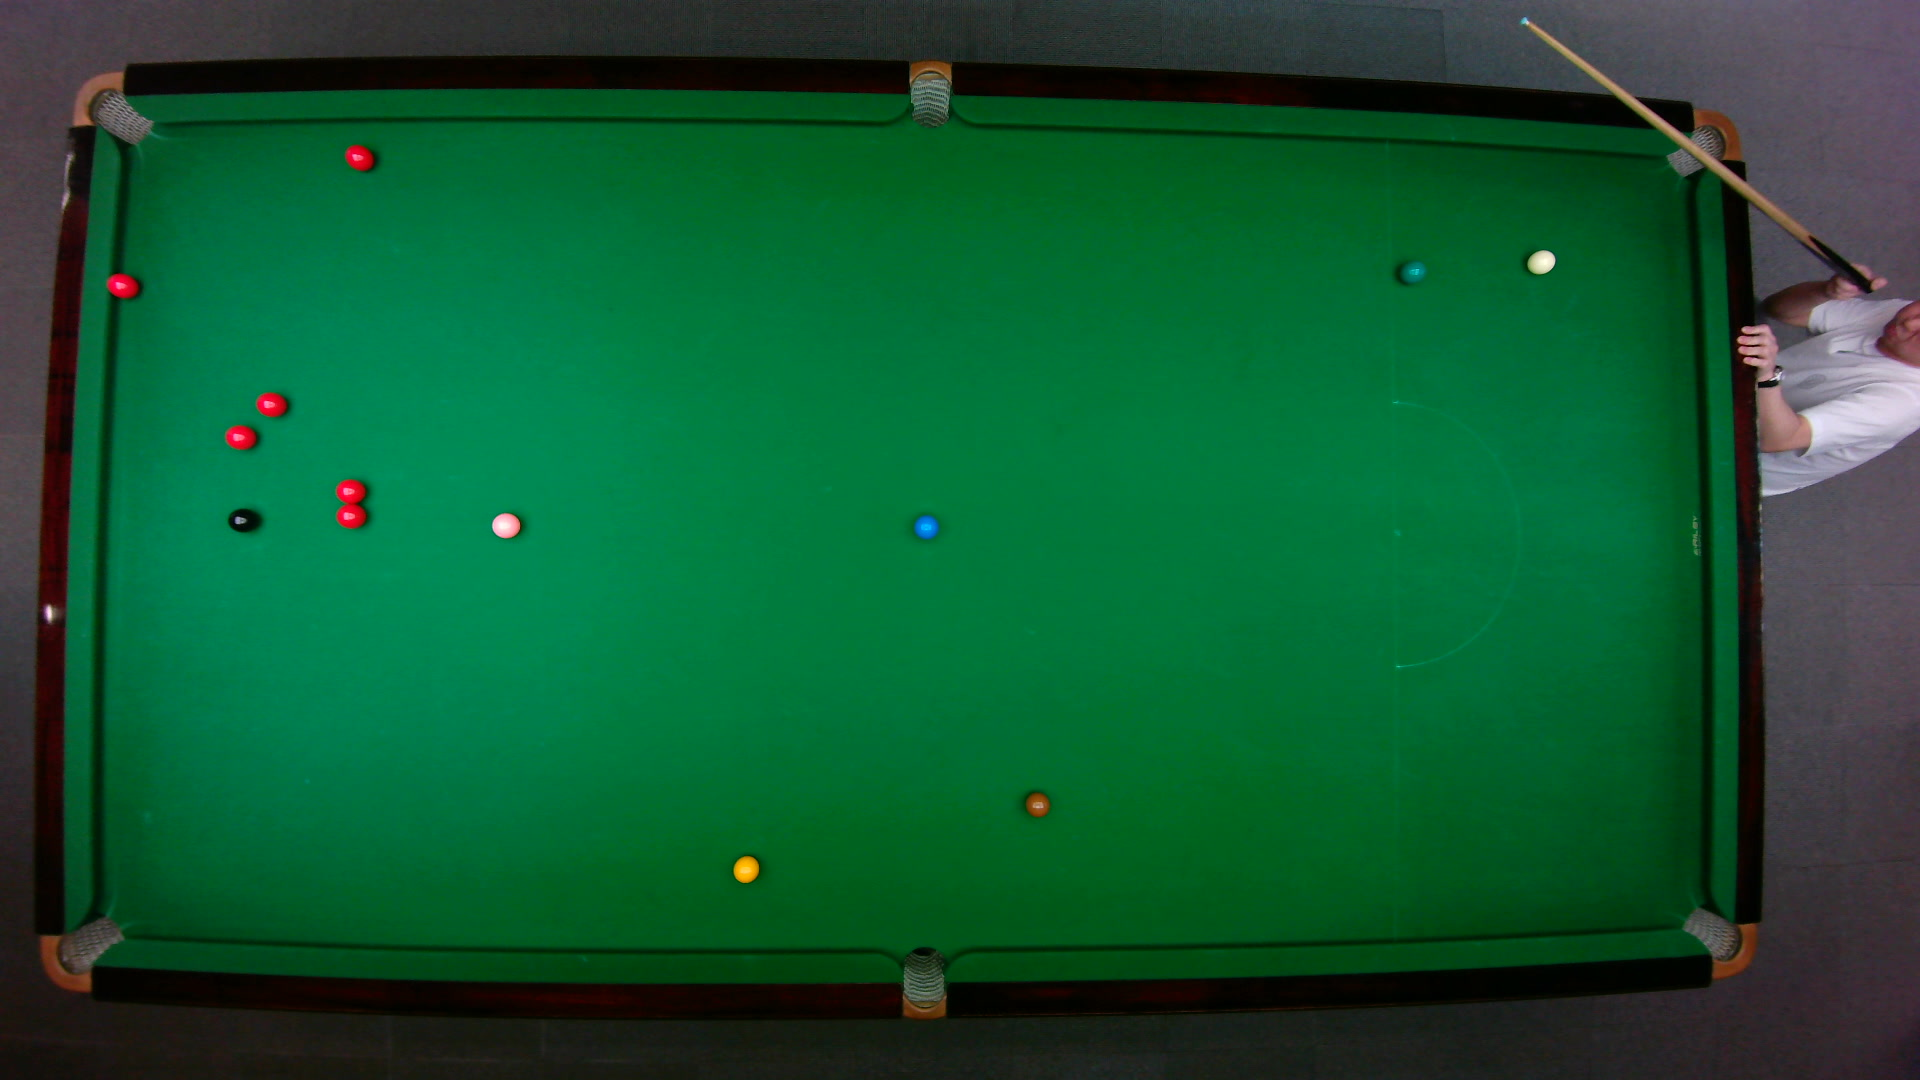bag: (36, 913, 125, 992), (69, 69, 154, 145), (1677, 905, 1756, 978), (1665, 107, 1742, 181), (901, 944, 945, 1021), (909, 57, 949, 128)
black: (224, 505, 258, 531)
blue: (911, 512, 939, 539)
brown: (1022, 791, 1050, 818)
cue: (1519, 13, 1880, 290)
green: (1396, 258, 1427, 284)
pink: (489, 509, 521, 541)
red: (103, 270, 138, 299), (222, 423, 257, 450), (344, 142, 375, 171), (334, 502, 367, 529), (255, 390, 287, 417), (334, 476, 367, 502)
white: (1524, 247, 1556, 274)
yellow: (731, 853, 760, 884)
zone: (1390, 400, 1519, 669)
